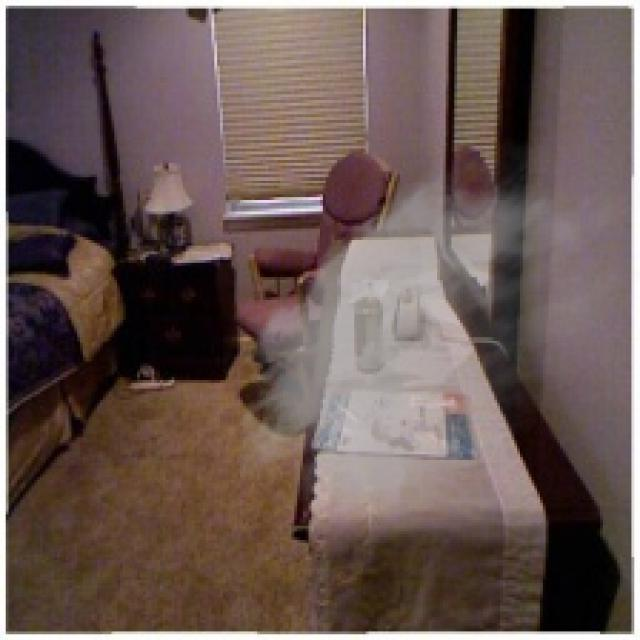Smoke: (222, 131, 638, 546)
